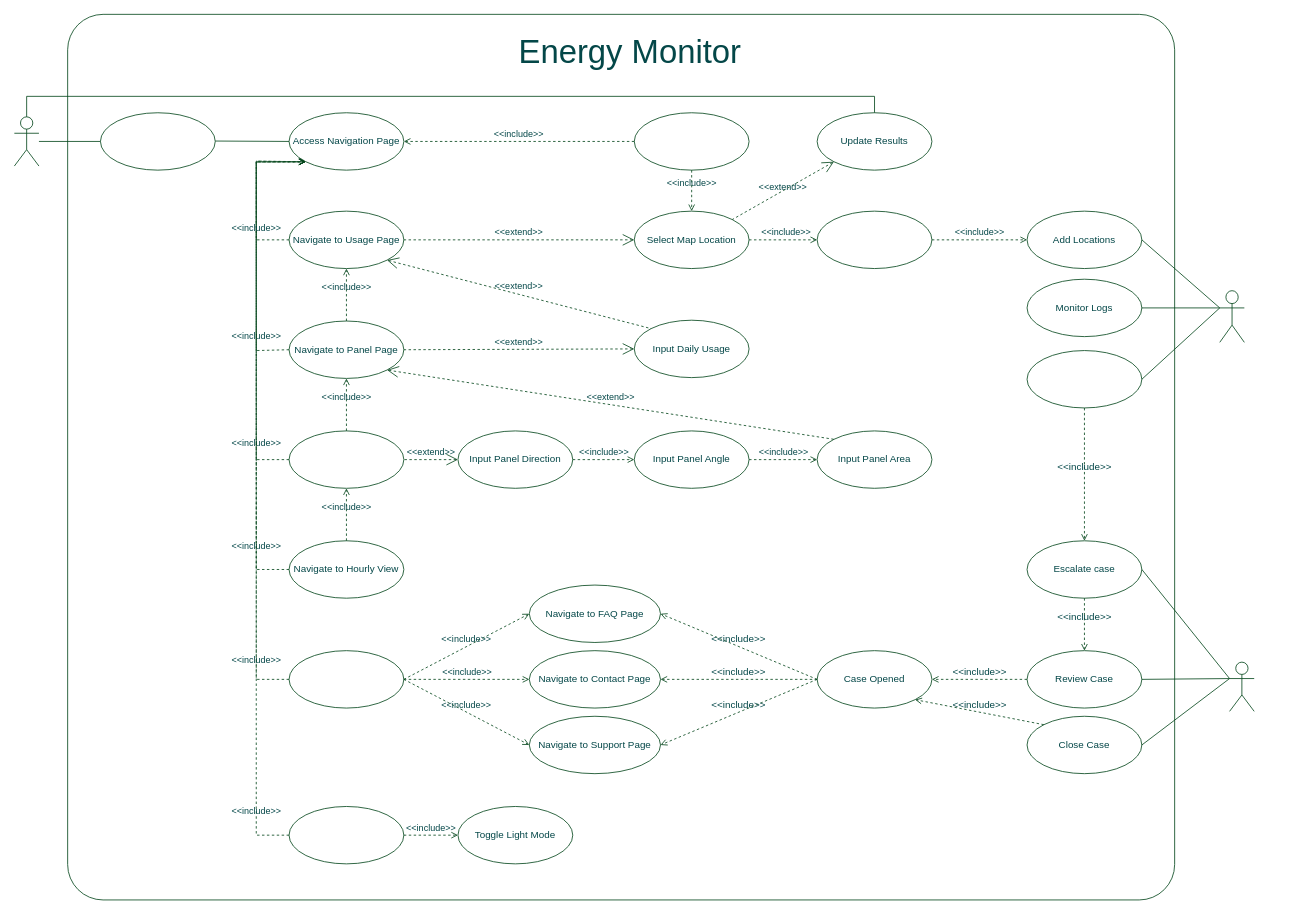
This 1292x914 diagram has some shape labels left out. Each missing label, with the box of its shape:
Investigate Issues: (1026, 350, 1142, 408)
Navigate to Daily View: (288, 430, 404, 488)
Navigate to Help Page: (288, 650, 404, 708)
Navigate to Map Page: (633, 112, 749, 170)
Support: (1229, 661, 1254, 711)
System Administrator: (1219, 290, 1244, 342)
Toggle Dark Mode: (288, 806, 404, 864)
Update Map: (816, 210, 932, 269)
Use App: (100, 112, 215, 170)
User: (14, 116, 39, 166)
